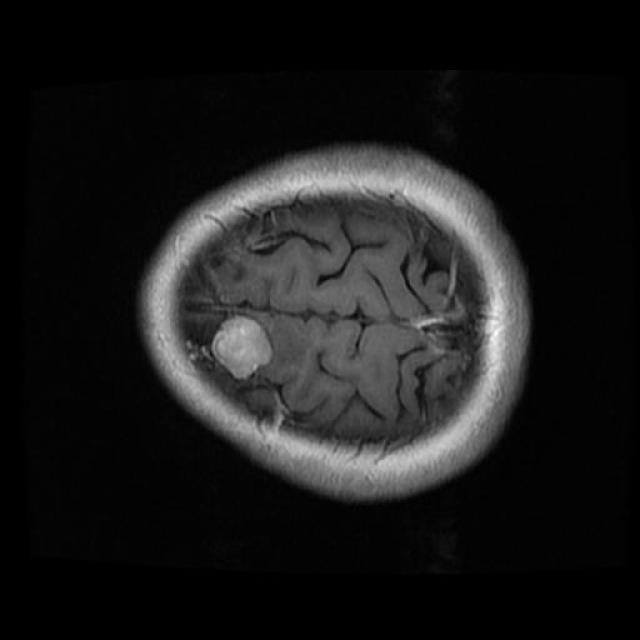Meningioma: (210, 316, 271, 379)
